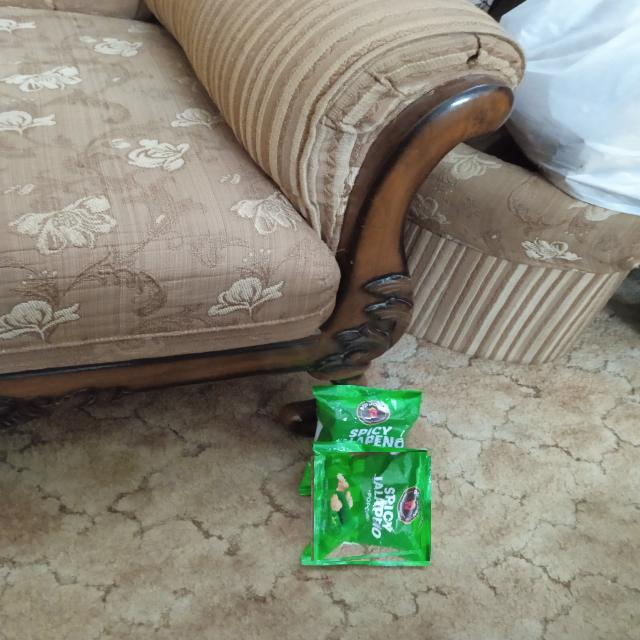Plastic: (314, 452, 427, 565), (320, 385, 427, 443)
